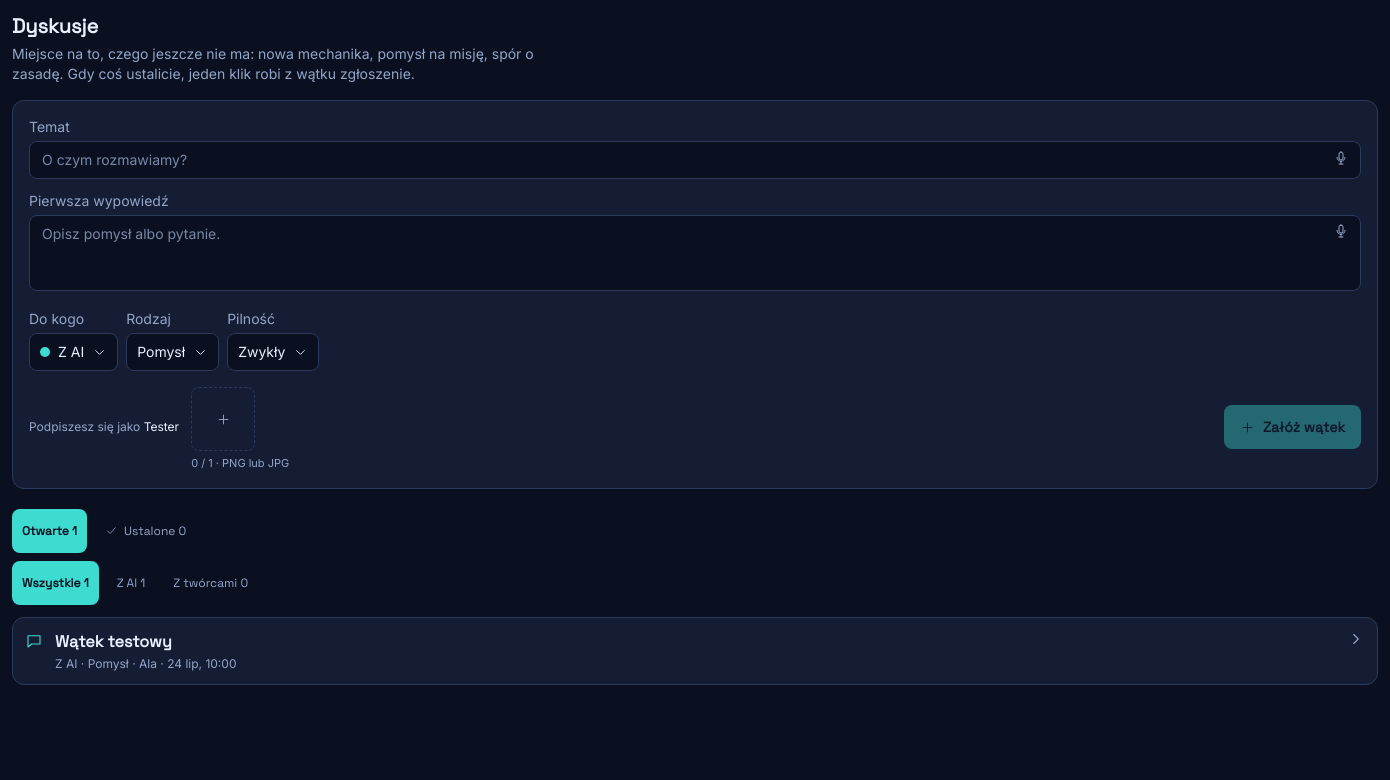
DiscussionsPanel — usuwanie wątku › admin widzi przycisk „Usuń"
The width and height of the screenshot is (1390, 780).
Click the button "Wątek testowy": click(113, 641) [12,616,1378,684]
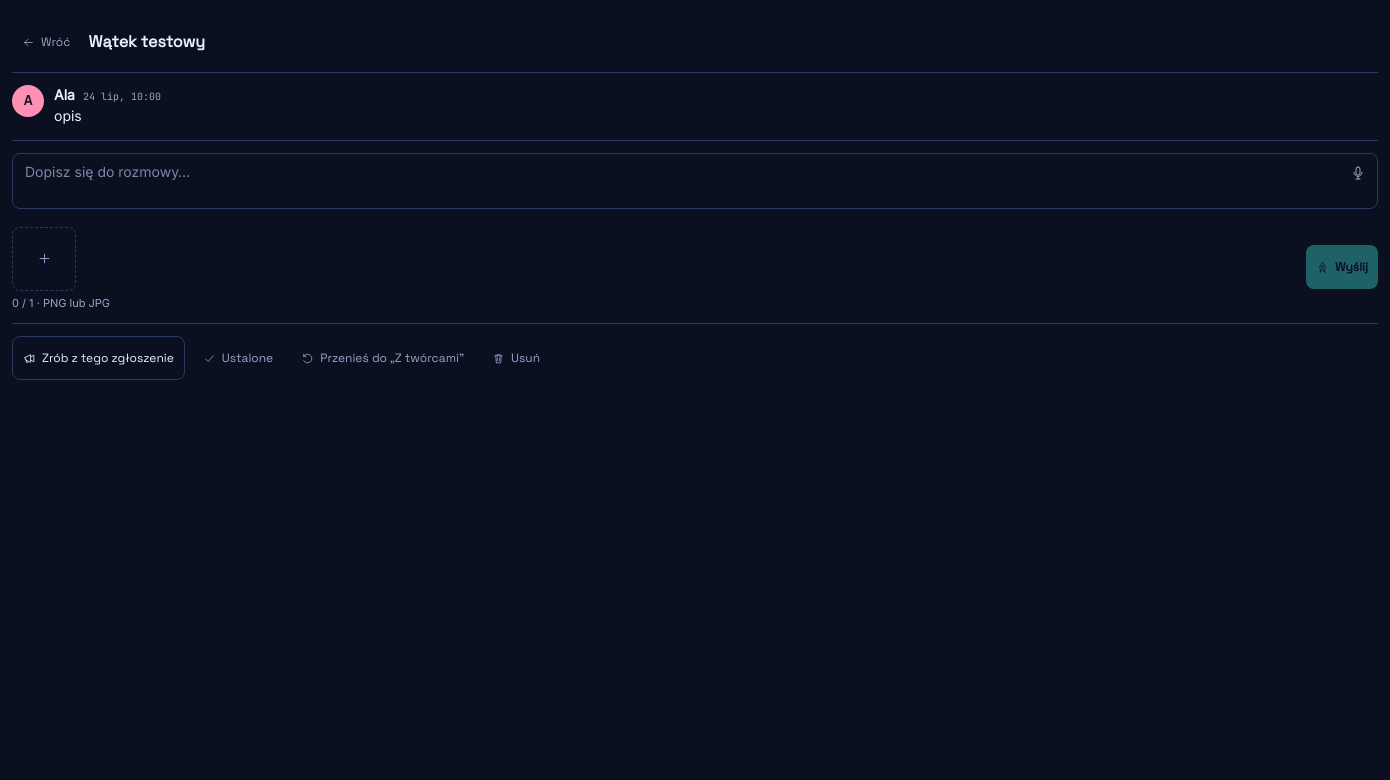
Result: the button "Usuń" is shown at [482,336,550,380]
